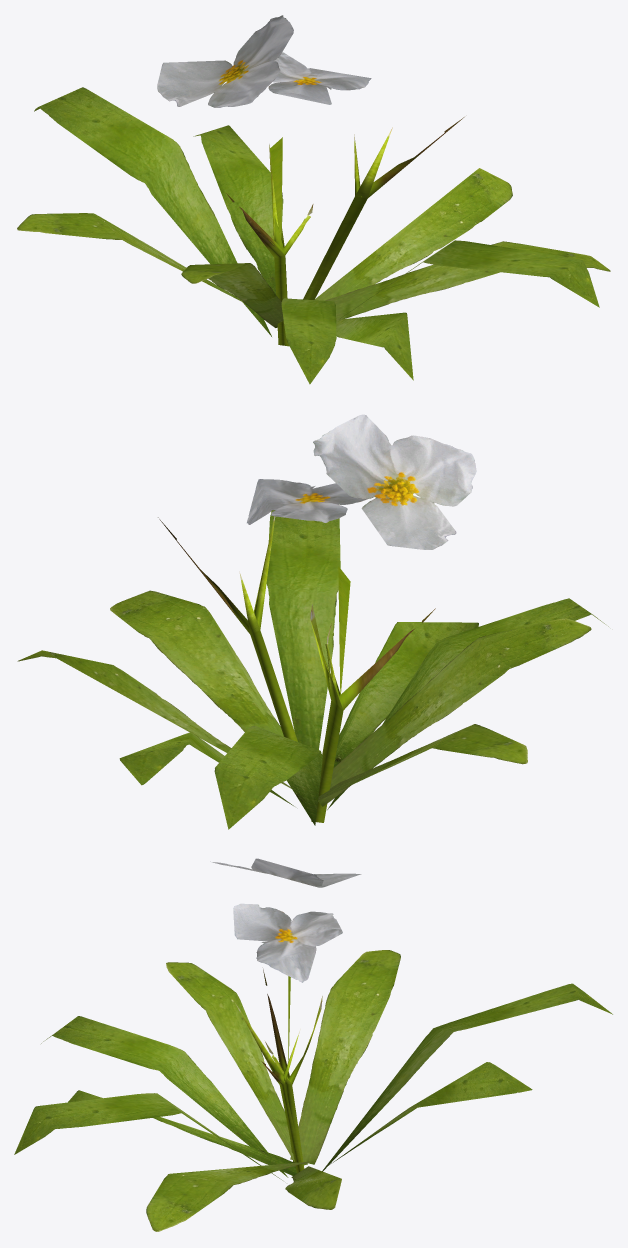
Rendered from Urikawa_LOD3.fbx.
3 views of the same model, one above another, from view 1: azimuth 30°, elevation 25°; view 2: azimuth 150°, elevation 25°; view 3: azimuth 270°, elevation 25° (orthographic). The views are drawn at different scales.
Parts seen in each view (by area): view 1: polySurface880__urikawa_m; view 2: polySurface880__urikawa_m; view 3: polySurface880__urikawa_m.
Part boxes in pixels (x1,y1,x2,y2): polySurface880__urikawa_m: [17, 15, 610, 384]; polySurface880__urikawa_m: [17, 414, 608, 829]; polySurface880__urikawa_m: [14, 858, 612, 1231].
Size of the model in its own units: 15403 by 10359 by 17737.
